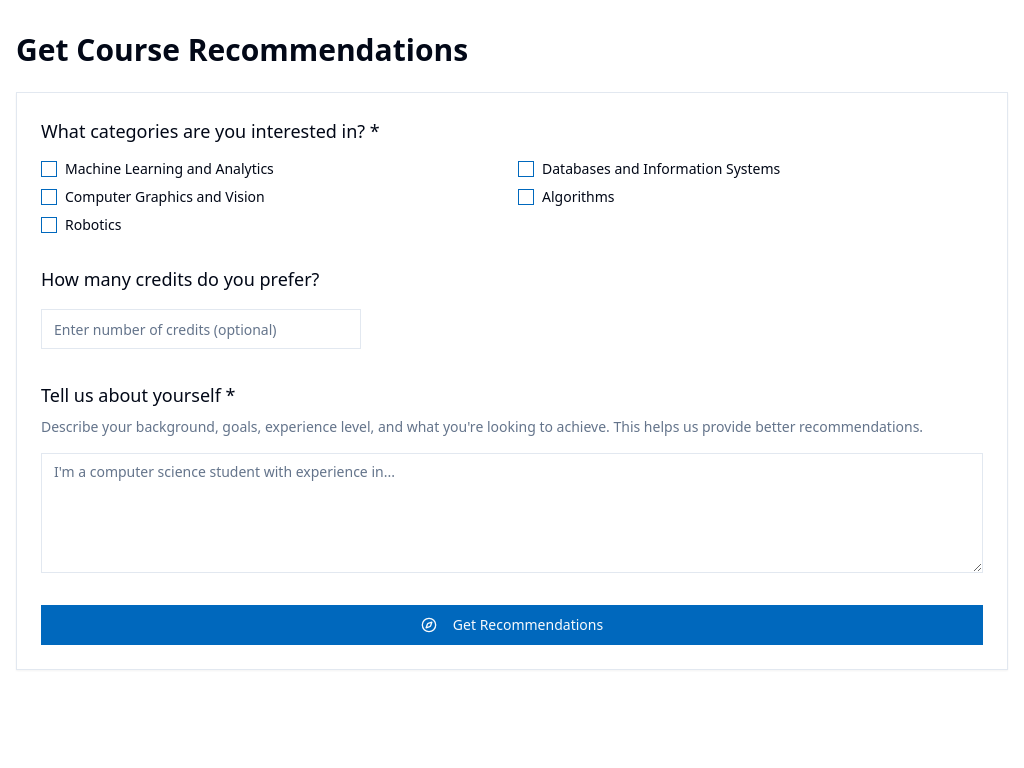
Scenario: Recommend Page › Recommendations Flow › handles empty recommendations
The width and height of the screenshot is (1024, 768).
Click the checkbox named "Machine Learning and Analytics" next to "Machine Learning and Analytics": (49, 169) 41,161 -> 57,177
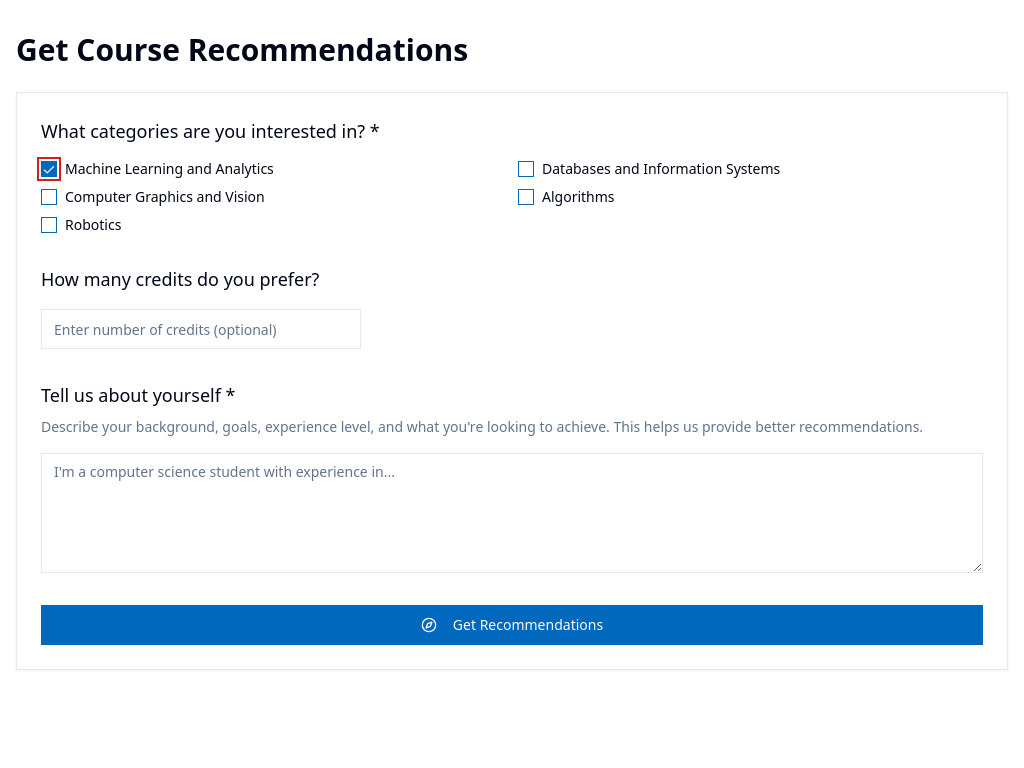
In the text box with placeholder "I'm a computer science student with experience in...": (512, 513) 41,453 -> 983,573, type "I want to learn about something very specific"
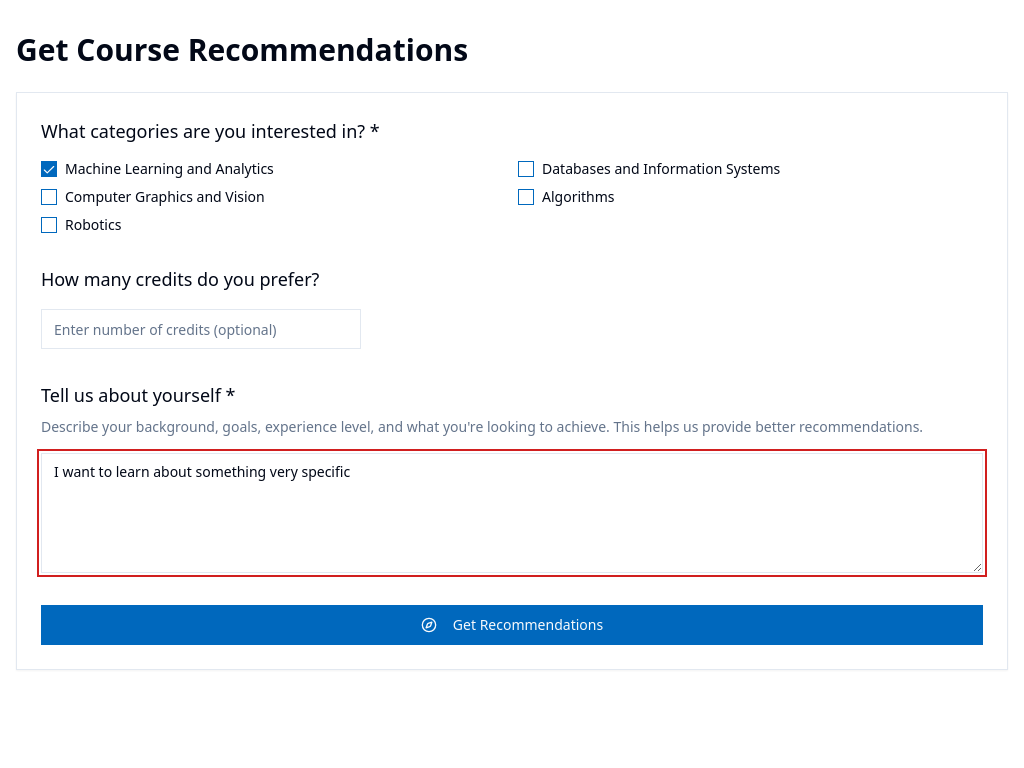
Click the button "Get Recommendations": (512, 625) 41,605 -> 983,645
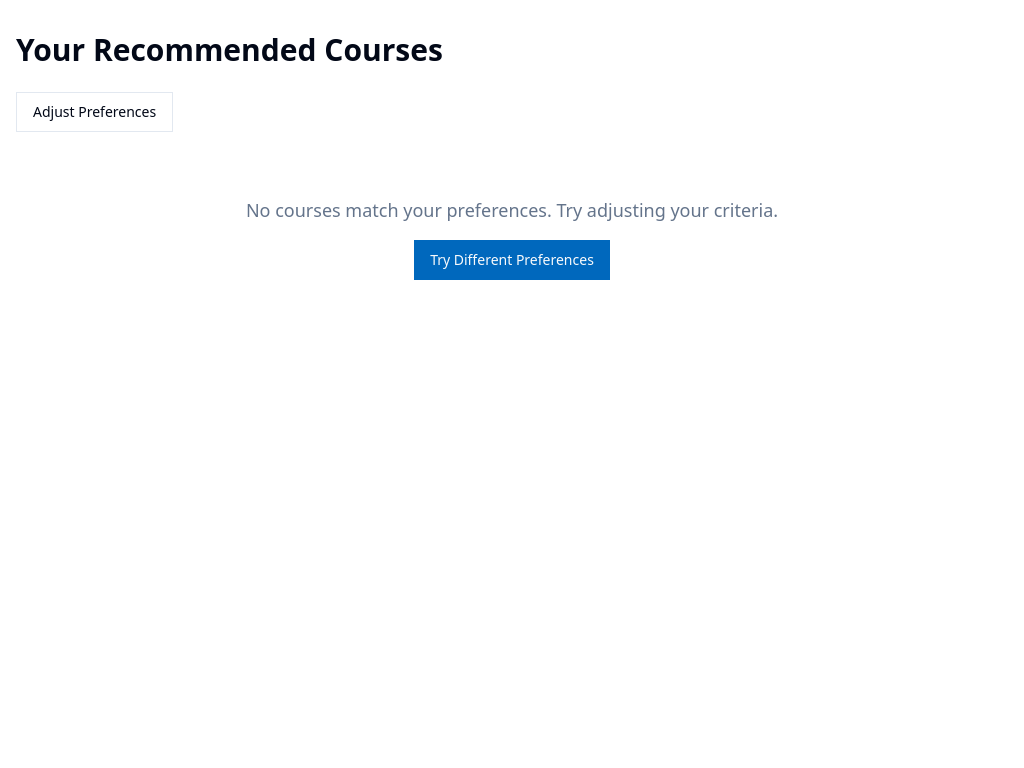
Expected: the text "No courses match your preferences" is shown, 246,198 -> 778,222
